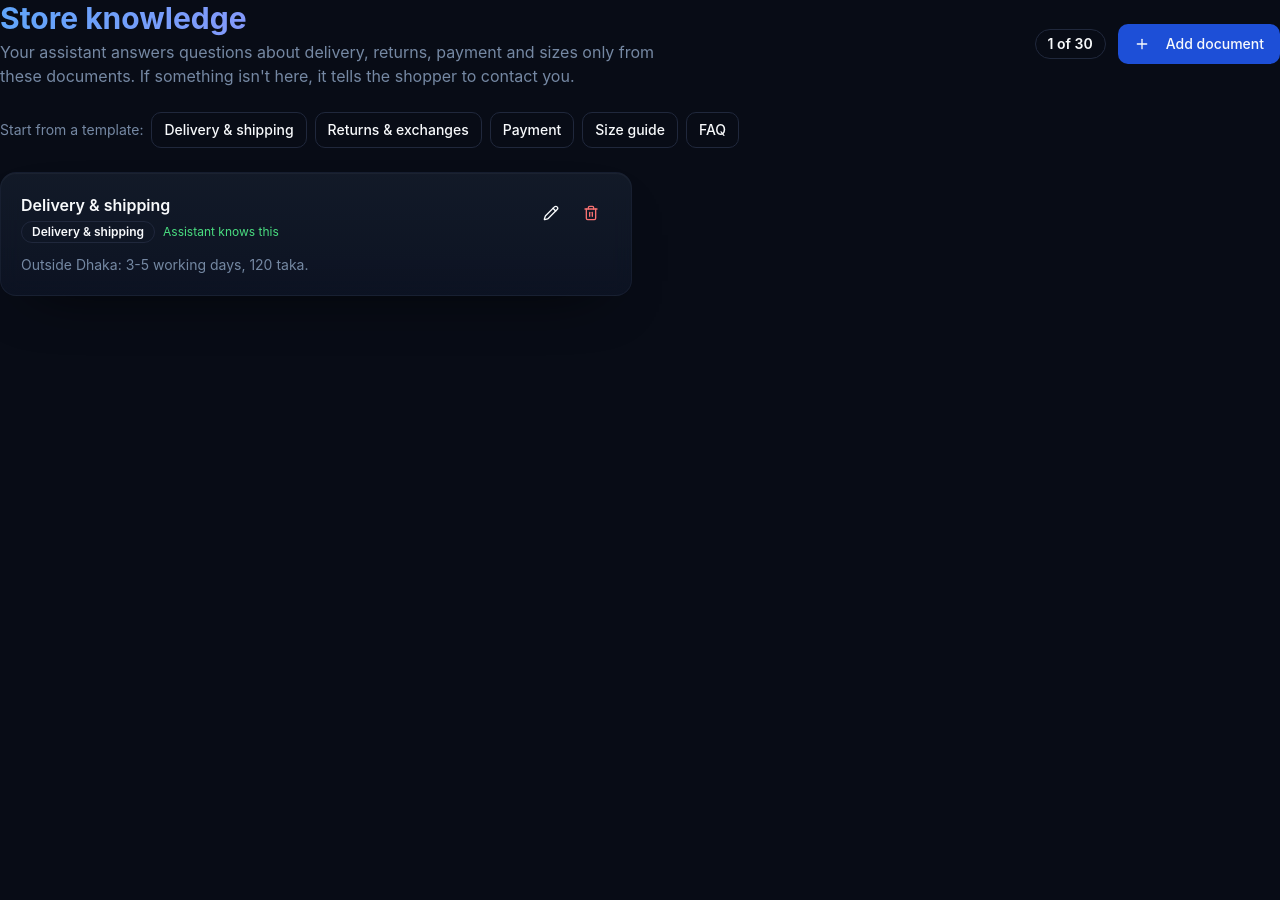
StoreKnowledgeView › asks before deleting
Later steps or results of the test are not shown.
Click the button named "Delete Delivery & shipping" at (591, 213), box 571,193 -> 611,233
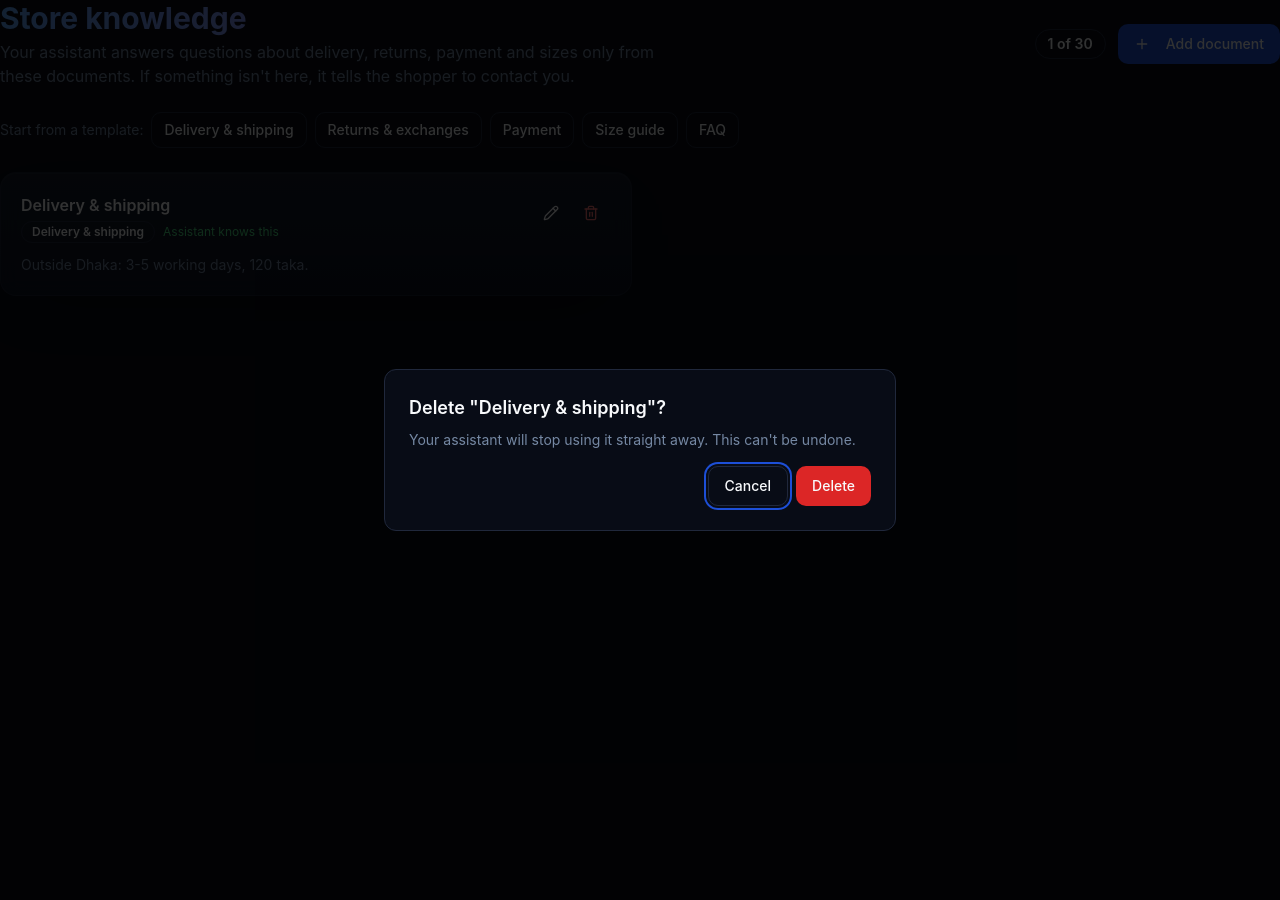
Now the text "can't be undone" is shown, box 409,431 -> 856,448
